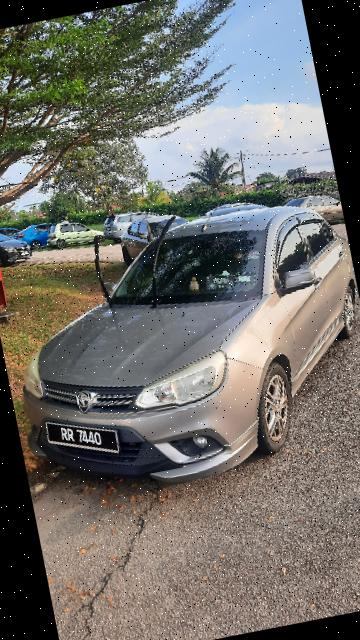License_Plate: (41, 403, 129, 471)
car: (1, 184, 360, 506)
